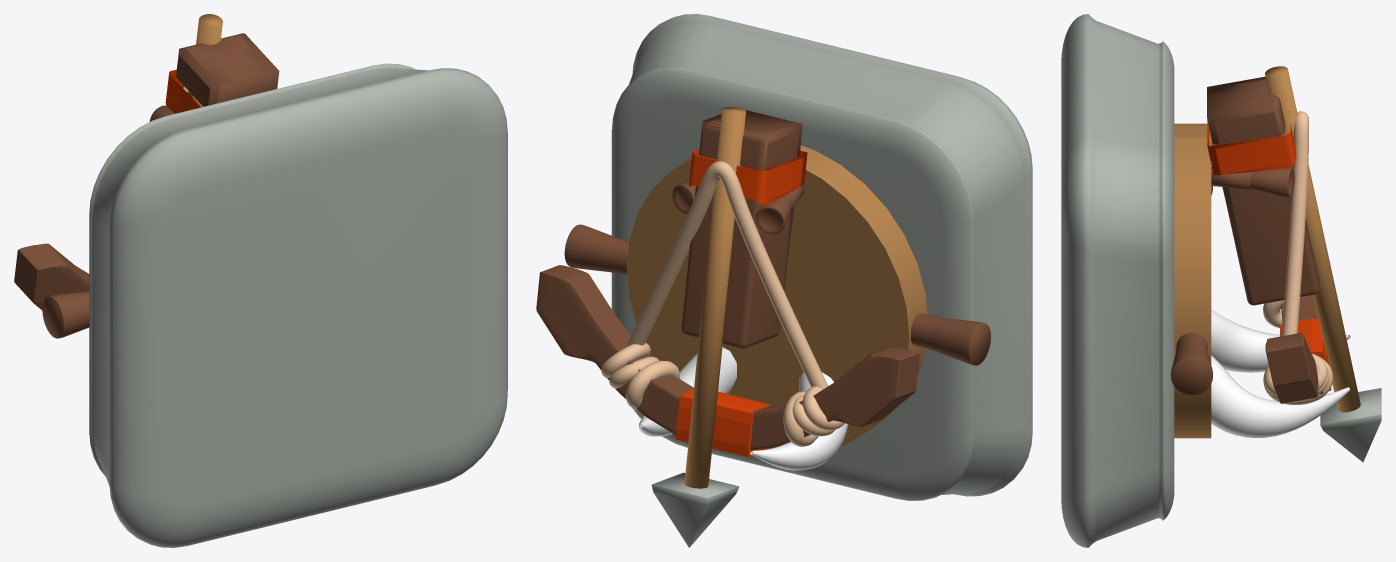
Rendered from crossbow.fbx.
The picture shows the model from 3 angles, left to right: view 1: azimuth 30°, elevation 25°; view 2: azimuth 150°, elevation 25°; view 3: azimuth 270°, elevation 25°; orthographic projection. The views are drawn at different scales.
Visible parts, largest first — view 1: Cube.006, Cylinder.007, Cube.009, Cylinder.005, Cube.011; view 2: Cube.006, Cylinder.005, Cylinder.007, Cube.009, BézierCircle.001, Cube.011, NurbsPath.001, Cube.010; view 3: Cube.006, Cylinder.007, Cylinder.005, Cube.011, NurbsPath.001, BézierCircle.001, Cube.009, Cube.010.
Boxes of the visible parts, x1,y1,x2,y2 form: Cube.006: [89, 63, 507, 547]; Cylinder.007: [149, 33, 279, 121]; Cube.009: [14, 243, 89, 310]; Cylinder.005: [42, 291, 89, 338]; Cube.011: [192, 14, 222, 107]; Cube.006: [611, 14, 1032, 500]; Cylinder.005: [564, 145, 990, 448]; Cylinder.007: [672, 110, 807, 348]; Cube.009: [536, 265, 919, 449]; BézierCircle.001: [601, 161, 844, 446]; Cube.011: [651, 107, 746, 547]; NurbsPath.001: [639, 347, 848, 470]; Cube.010: [676, 390, 771, 456]; Cube.006: [1061, 14, 1174, 547]; Cylinder.007: [1207, 76, 1319, 305]; Cylinder.005: [1171, 123, 1212, 438]; Cube.011: [1265, 66, 1381, 462]; NurbsPath.001: [1211, 309, 1350, 438]; BézierCircle.001: [1263, 111, 1333, 404]; Cube.009: [1265, 295, 1322, 403]; Cube.010: [1280, 318, 1331, 390].
Size of the model in its own units: 227 by 229 by 161.
